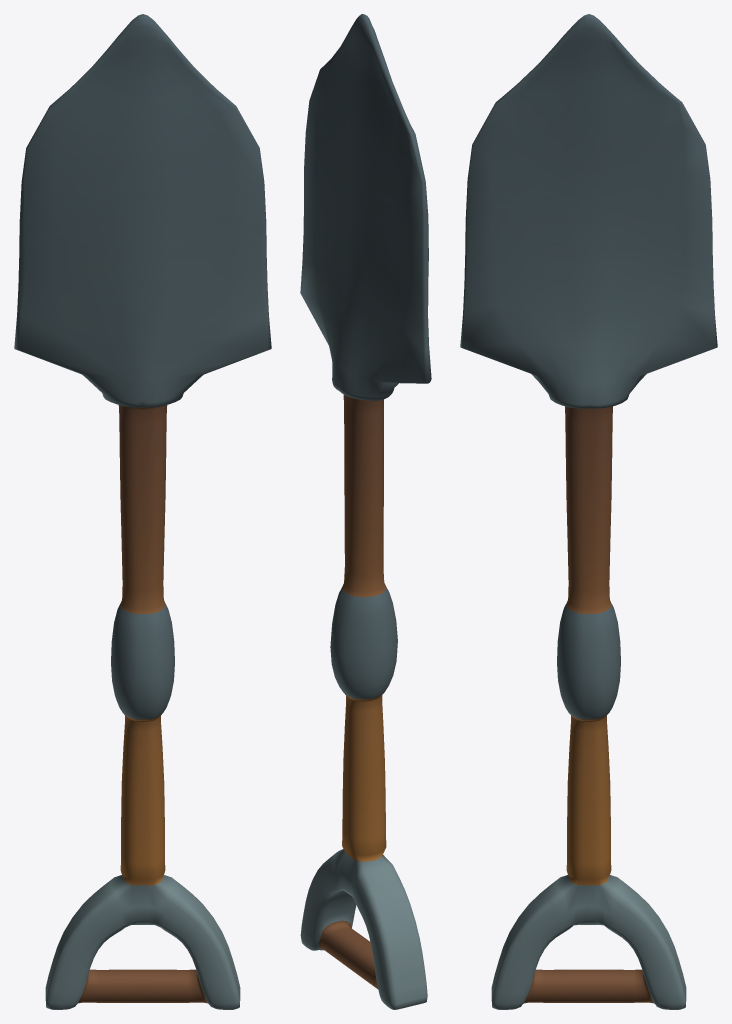
Rendered from shovel.fbx.
3 renders of one model, left to right at view 1: azimuth 90°, elevation 25°; view 2: azimuth 210°, elevation 25°; view 3: azimuth 270°, elevation 25°, orthographic. The views are drawn at different scales.
Parts seen in each view (by area): view 1: Pitchfork.002; view 2: Pitchfork.002; view 3: Pitchfork.002.
Part boxes in pixels (bbox=[...]): Pitchfork.002: bbox=[14, 14, 271, 1009]; Pitchfork.002: bbox=[300, 14, 431, 1009]; Pitchfork.002: bbox=[460, 14, 717, 1009].
Bounding box in the file's own units: 4.89 × 75.01 × 17.71.
